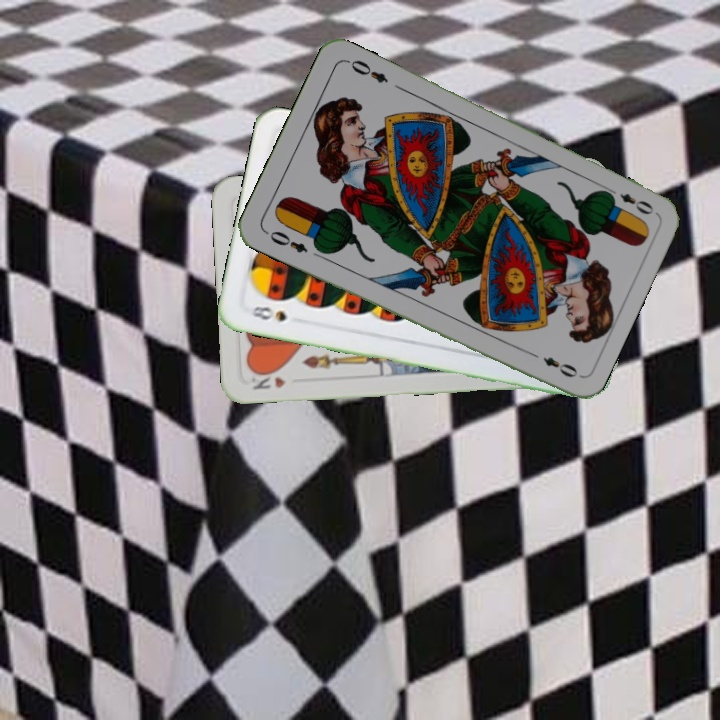EO: (602, 182, 656, 218), (265, 226, 311, 256)
HK: (248, 367, 289, 392)
S8: (246, 302, 289, 325)
